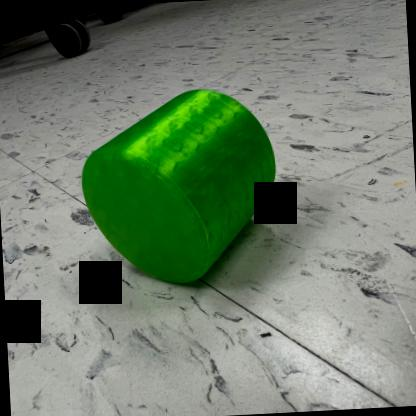green cylinder: (76, 82, 286, 292)
